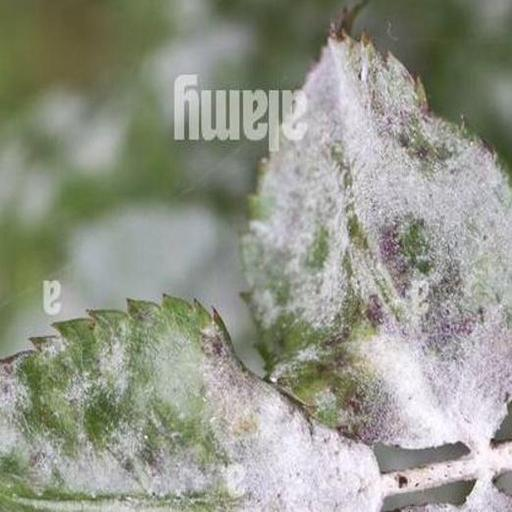powdery_mildew: (0, 28, 512, 512), (0, 297, 382, 512)
